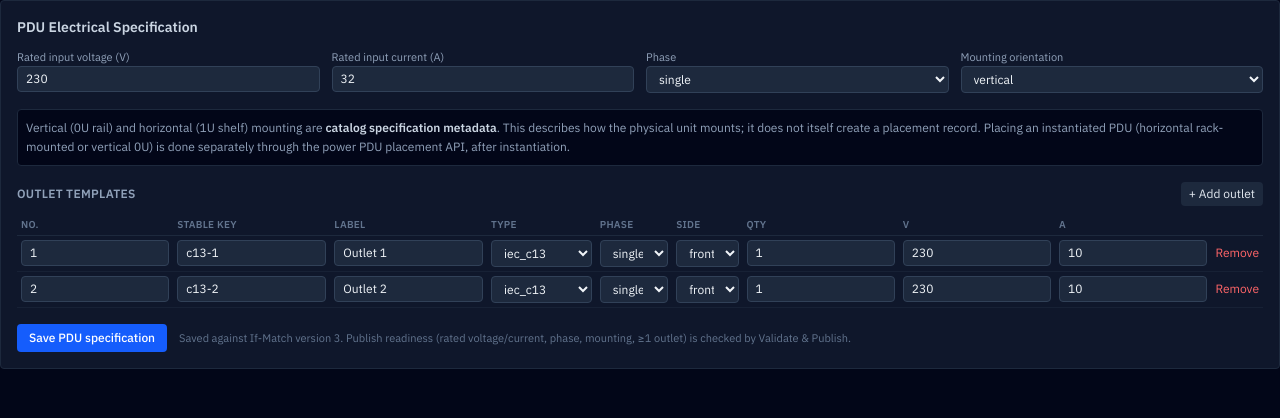
Test case: PduSpecPanel › surfaces the server's electrical validation messages (rated input current > 0)
The image size is (1280, 418).
Replace the text in the number field labelled "Rated input current (A)" with "0". click: (483, 78)
box: [332,66,634,92]
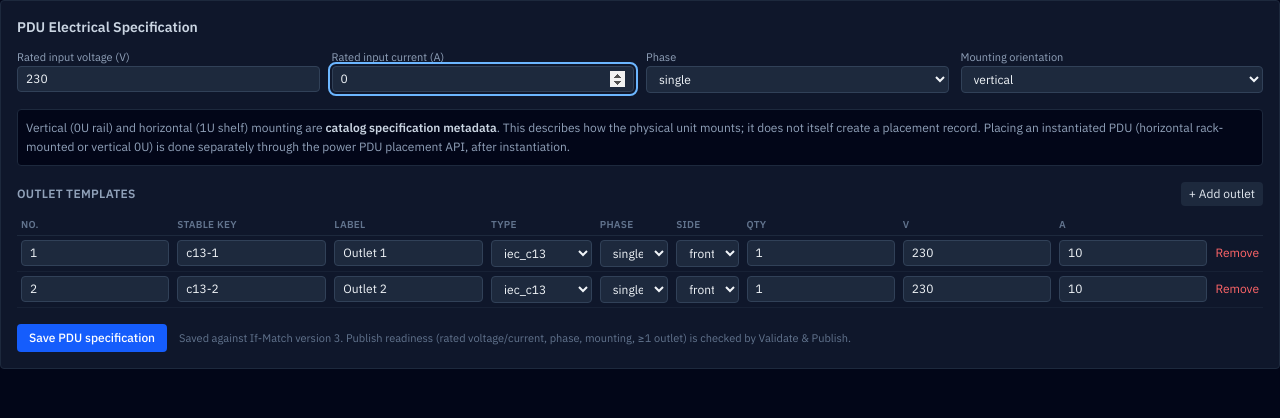
Click the button "Save PDU specification". click: (92, 338)
box: [17,324,167,352]
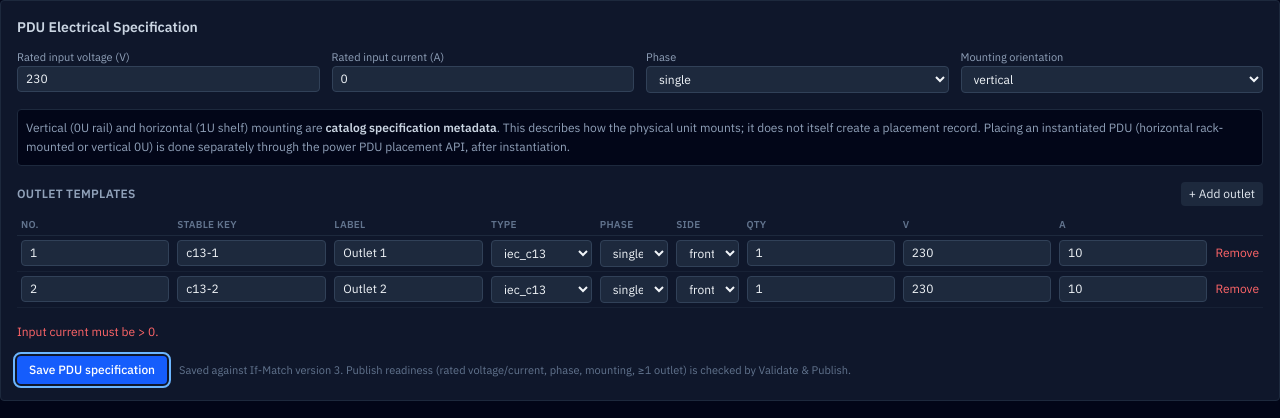
Expected: the list item "Input current must be > 0." is shown, [17,324,158,339]
